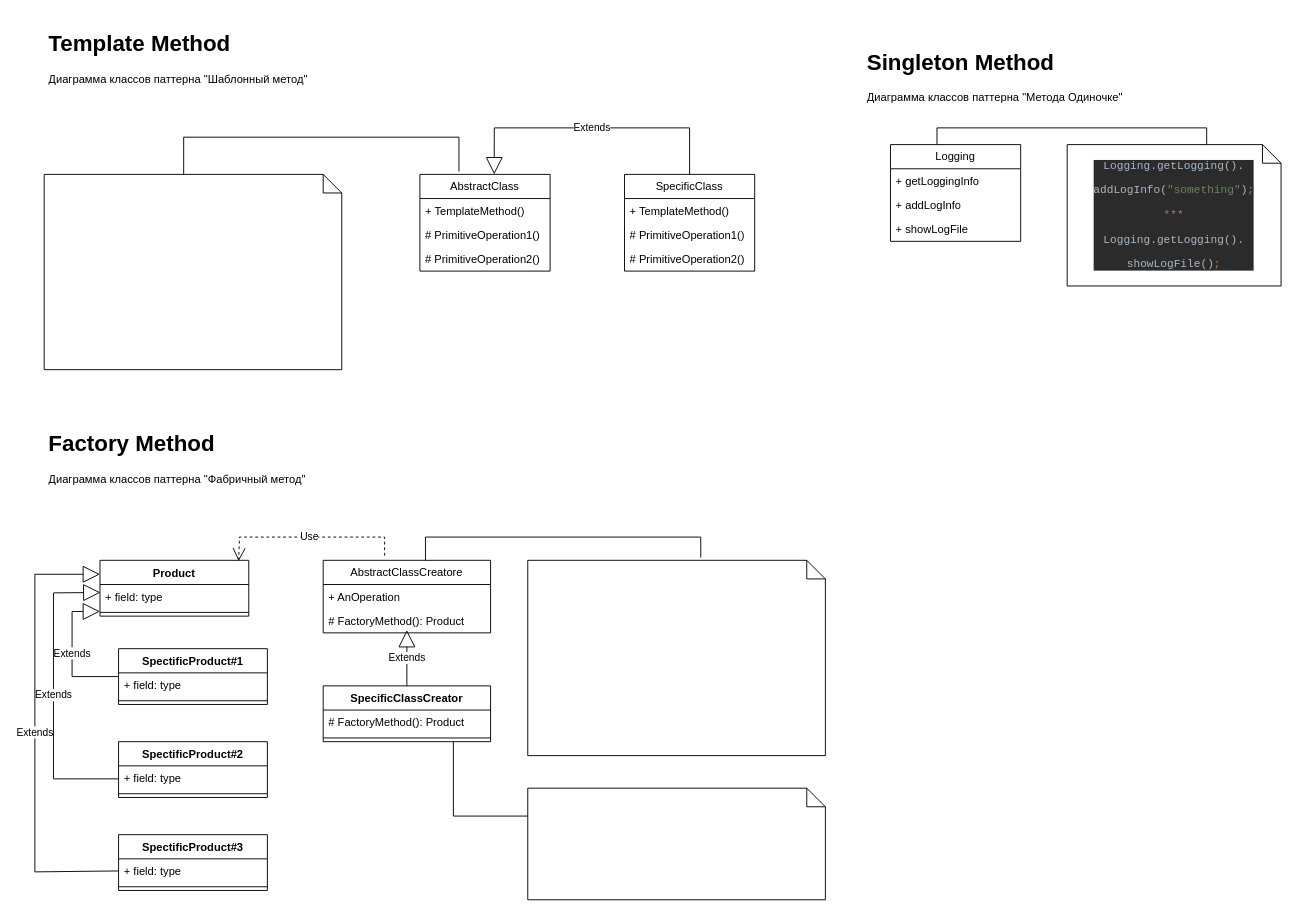
Some shapes in this 1297 by 916 pixel diagram are drawn without their labels. The centre of each missing label's shape, as x and y in pixels:
".... return SpecificProduct(); }" belongs at pixel 676 843.
"void AnOperation(){ ... Product product = FactoryMethod(); .... return product }" belongs at pixel 676 657.
"void TemplateMethod(){ PrimitiveOperation(); .... .... PrimitiveOperation(); }" belongs at pixel 192 271.
